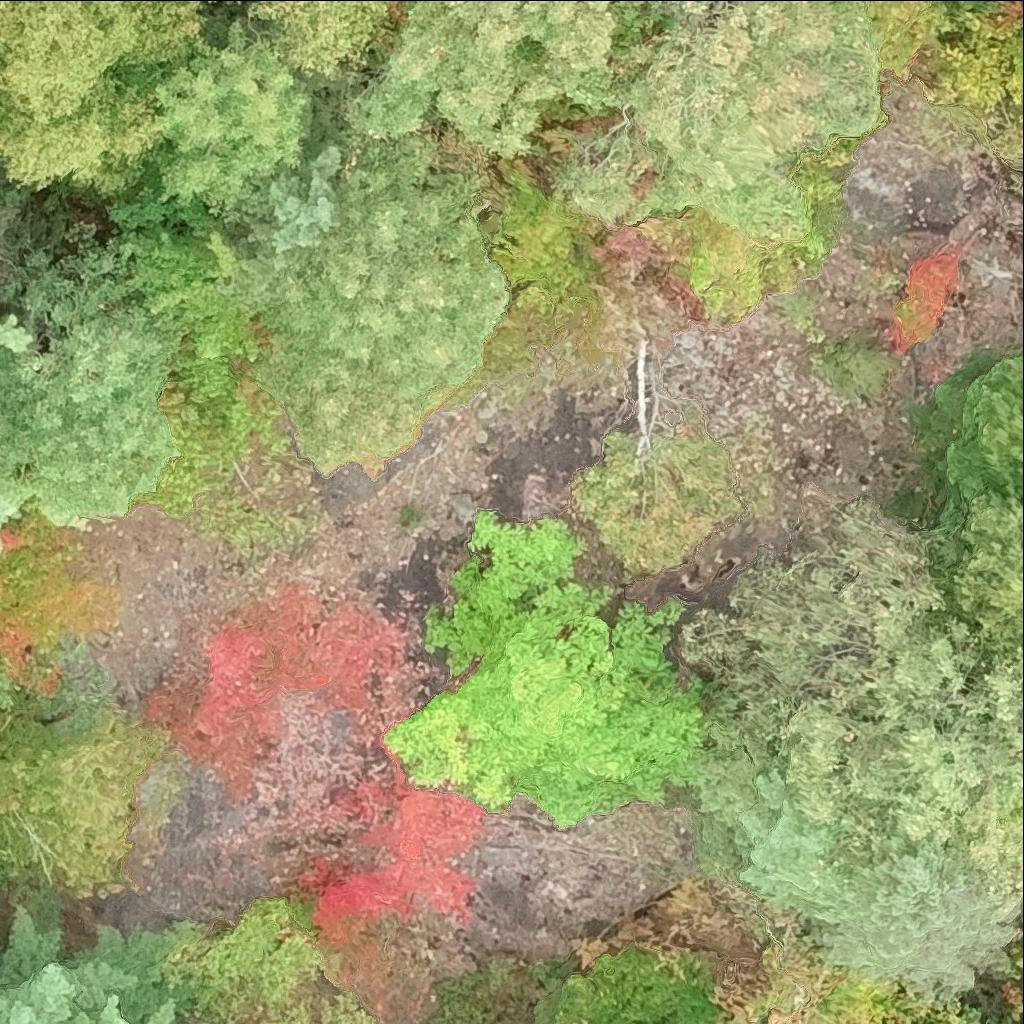crown: (680, 495, 974, 857), (382, 508, 710, 829), (255, 124, 510, 475), (552, 0, 885, 245), (0, 215, 183, 528), (856, 649, 1023, 920), (348, 0, 644, 143), (0, 0, 202, 192), (700, 676, 851, 915), (679, 130, 858, 327), (814, 833, 1023, 1000), (317, 754, 490, 939), (577, 392, 736, 570), (155, 22, 307, 205), (238, 580, 424, 724), (126, 226, 266, 398), (909, 492, 1023, 697), (0, 496, 114, 695), (713, 908, 909, 1023), (0, 913, 187, 1023), (219, 145, 341, 311), (165, 899, 317, 1023), (184, 623, 288, 797), (916, 351, 1023, 516), (251, 689, 366, 835), (485, 165, 598, 313), (588, 214, 708, 351), (133, 373, 234, 518), (195, 313, 291, 455), (256, 0, 404, 90), (925, 11, 1023, 115), (557, 945, 665, 1023), (892, 244, 967, 354), (616, 956, 722, 1023), (880, 990, 981, 1023), (1003, 941, 1023, 1022), (320, 1000, 367, 1023), (0, 323, 34, 350), (0, 488, 17, 527), (995, 0, 1023, 23), (278, 1013, 316, 1023), (1017, 19, 1023, 28), (181, 0, 194, 4), (1020, 114, 1023, 128), (208, 0, 216, 1)
